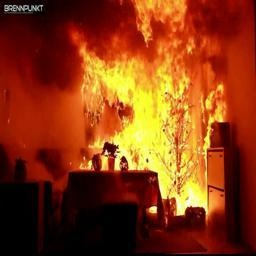fire: (35, 2, 238, 228)
